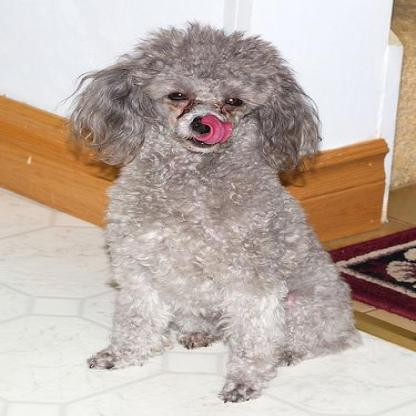toy_poodle: (56, 19, 360, 404)
